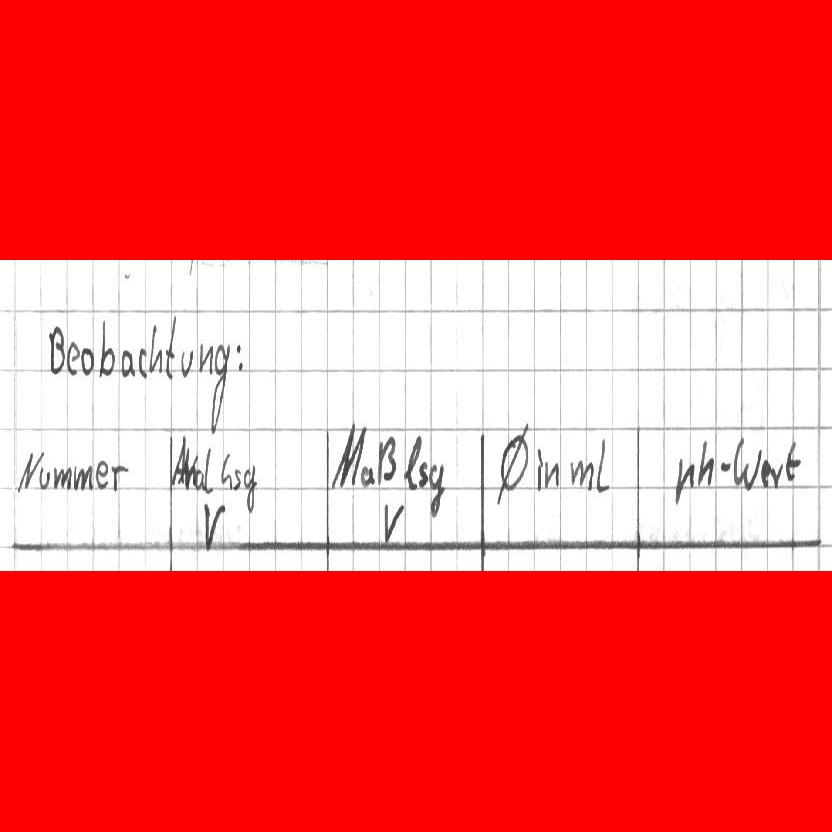Char: (327, 418, 362, 491), (499, 421, 529, 505), (209, 344, 232, 436), (732, 437, 762, 492), (400, 435, 421, 491), (169, 433, 189, 489), (203, 497, 224, 550), (96, 320, 115, 378), (674, 454, 694, 508), (428, 461, 446, 520), (382, 497, 404, 545), (378, 435, 397, 484), (18, 450, 40, 492), (593, 437, 608, 497), (537, 450, 558, 492), (48, 325, 65, 375), (697, 439, 715, 485), (164, 316, 177, 376), (783, 440, 801, 483), (571, 456, 592, 489), (203, 444, 216, 497), (243, 463, 256, 512), (150, 321, 162, 374), (761, 458, 780, 489), (110, 462, 130, 491), (219, 453, 234, 489), (74, 464, 93, 492), (51, 465, 72, 490), (198, 340, 212, 376), (418, 458, 434, 489), (94, 458, 109, 491), (80, 344, 95, 376), (66, 342, 79, 378), (189, 455, 202, 490), (137, 345, 149, 379), (182, 346, 194, 378), (121, 347, 133, 378), (234, 343, 245, 373), (360, 465, 374, 488), (37, 467, 50, 491), (232, 467, 241, 492), (719, 457, 730, 476)
